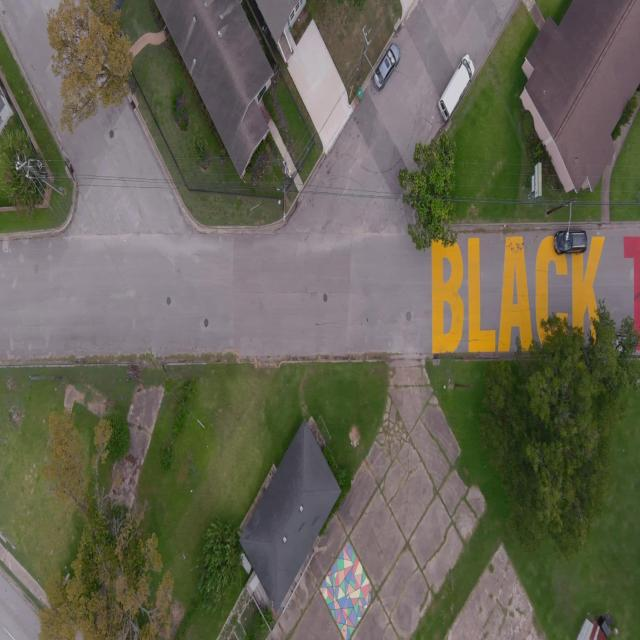Car: (375, 46, 398, 80), (554, 233, 587, 252)
Van: (442, 78, 469, 100)
